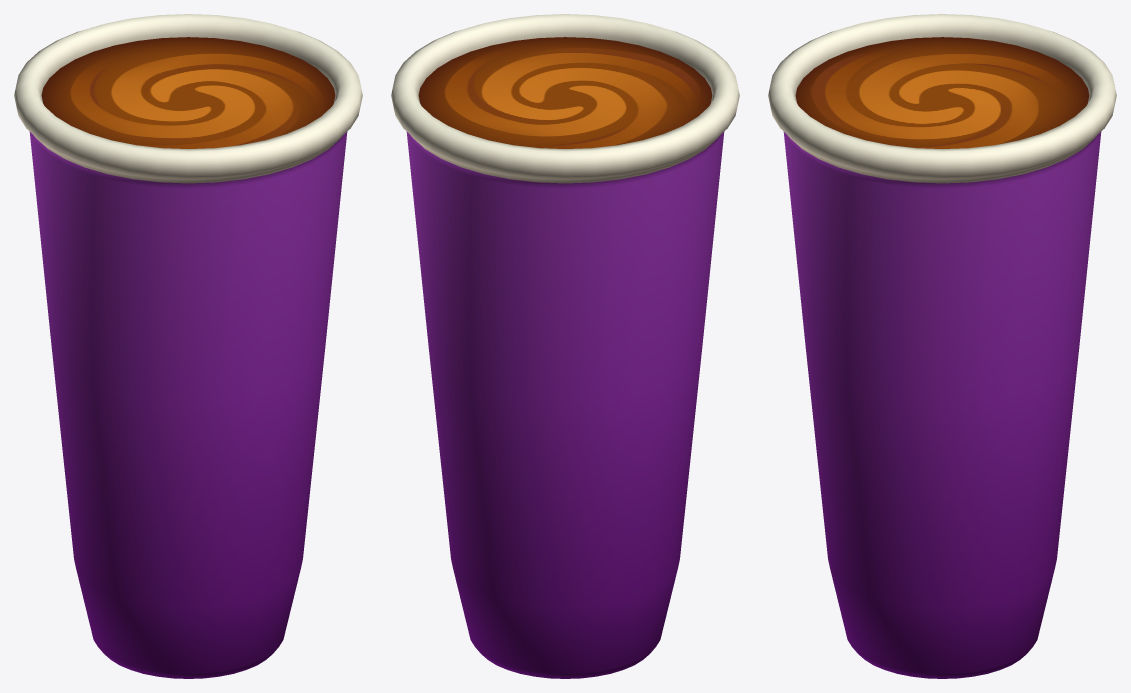
File: Cup_04.fbx
The picture shows the model from 3 angles, left to right: view 1: azimuth 30°, elevation 25°; view 2: azimuth 150°, elevation 25°; view 3: azimuth 270°, elevation 25°; orthographic projection.
Visible parts, largest first — view 1: Cup_04, Cup_04_Top; view 2: Cup_04, Cup_04_Top; view 3: Cup_04, Cup_04_Top.
Boxes of the visible parts, <box> form: Cup_04: <box>14,14,362,678</box>; Cup_04_Top: <box>41,37,335,148</box>; Cup_04: <box>391,14,739,678</box>; Cup_04_Top: <box>418,37,712,148</box>; Cup_04: <box>768,14,1116,678</box>; Cup_04_Top: <box>795,37,1089,148</box>.
Bounding box in the file's own units: 67.08 × 120 × 67.08.
Materials: 2 (2 with a texture image).
